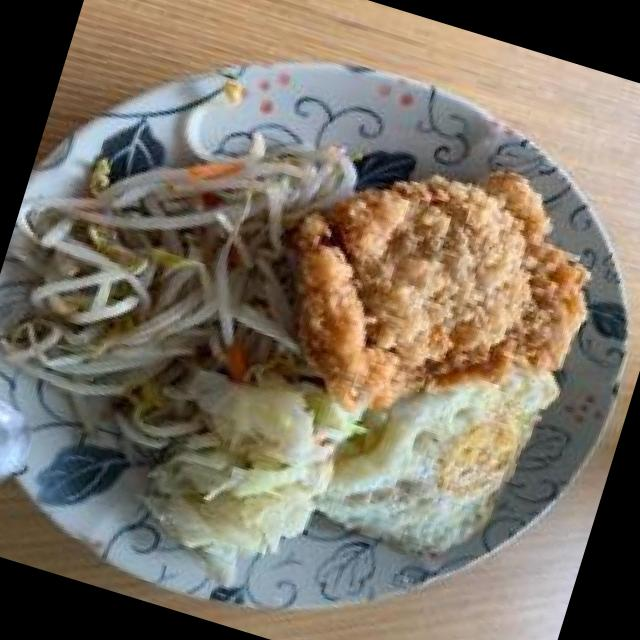chinese_cabbage: (130, 352, 362, 583)
fried_chicken: (270, 130, 602, 442)
fried_eggs: (309, 318, 566, 582)
mung_bean_sprouts: (0, 94, 311, 426)
